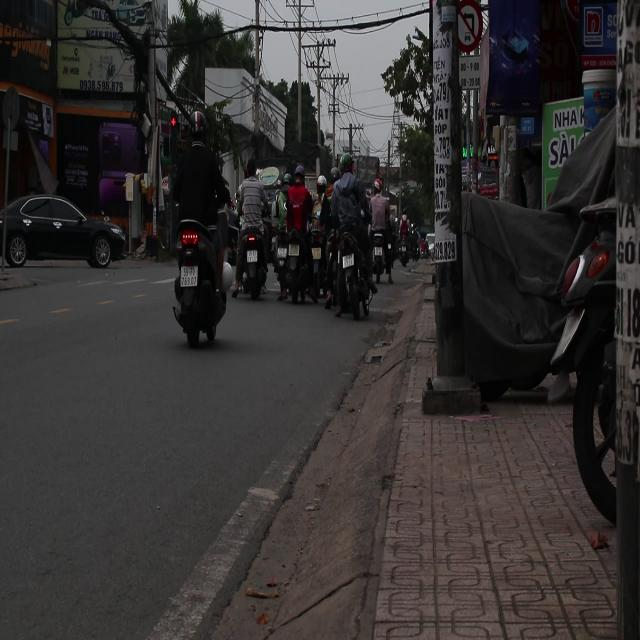car: (0, 194, 128, 270)
motorbike: (171, 216, 228, 348), (274, 171, 316, 305), (339, 228, 371, 311), (246, 228, 260, 305)
